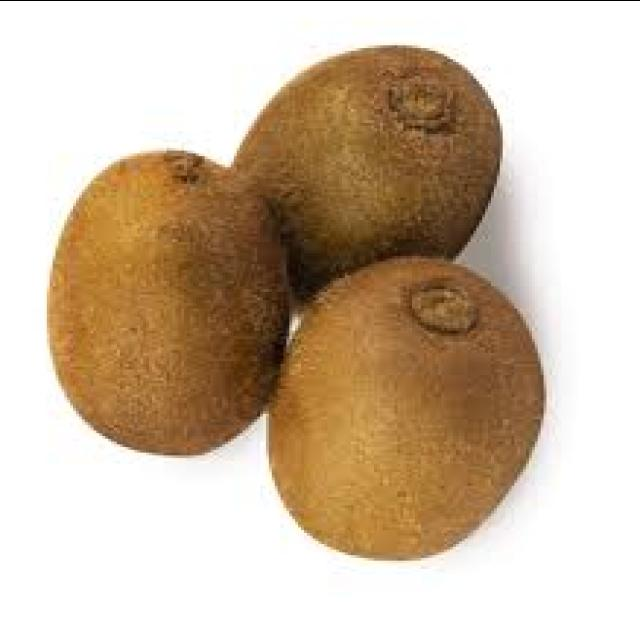kiwi: (265, 246, 549, 564), (45, 146, 283, 458), (213, 44, 503, 274)
